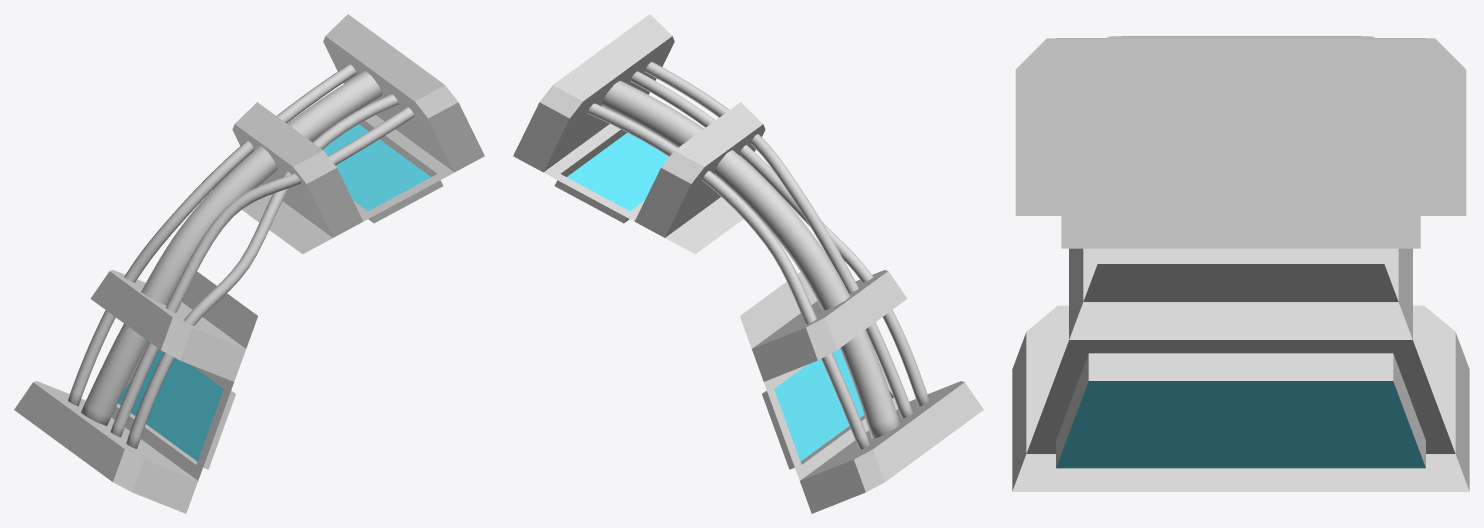
Rendered from Mod_Pauldron_R_Forge2.fbx.
3 renders of one model, left to right at view 1: azimuth 30°, elevation 25°; view 2: azimuth 150°, elevation 25°; view 3: azimuth 270°, elevation 25°, orthographic. The views are drawn at different scales.
Visible parts, largest first — view 1: Mod_Pauldron_R_Forge2; view 2: Mod_Pauldron_R_Forge2; view 3: Mod_Pauldron_R_Forge2.
Boxes of the visible parts, x1,y1,x2,y2 form: Mod_Pauldron_R_Forge2: [14, 14, 484, 513]; Mod_Pauldron_R_Forge2: [513, 14, 983, 513]; Mod_Pauldron_R_Forge2: [1012, 36, 1469, 491].
Size of the model in its own units: 266 by 249 by 144.
